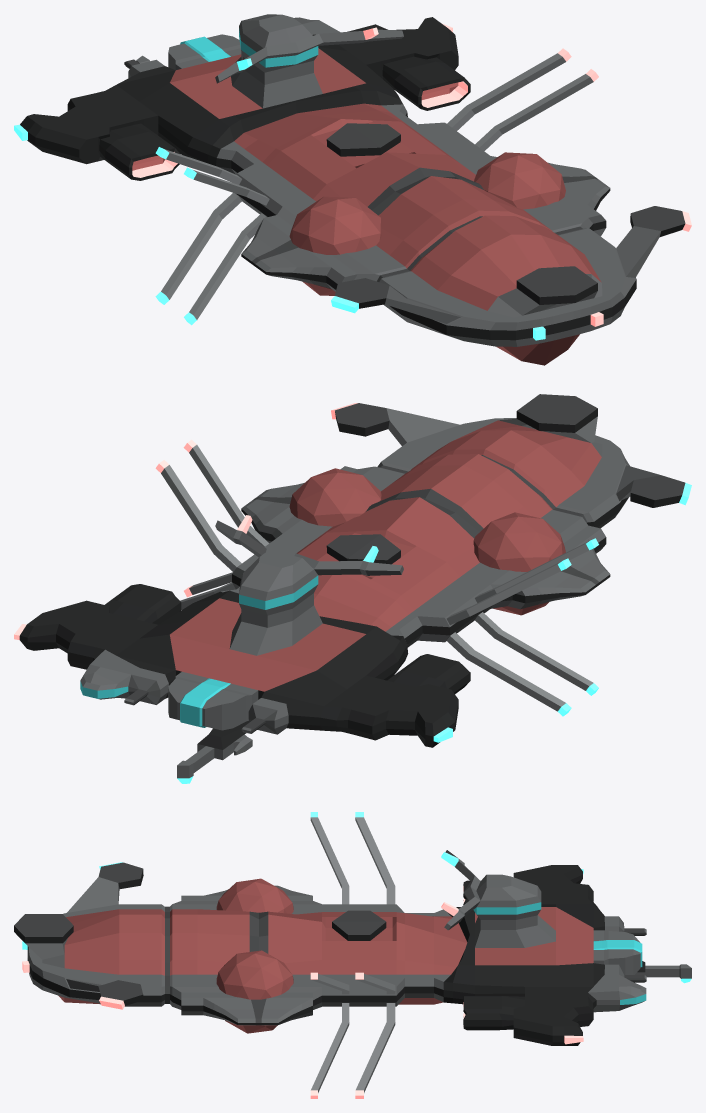
Rendered from Tanker_M_LODGroup.fbx.
The picture shows the model from 3 angles, top to bottom: view 1: azimuth 30°, elevation 25°; view 2: azimuth 150°, elevation 25°; view 3: azimuth 270°, elevation 25°; orthographic projection. The views are drawn at different scales.
Visible parts, largest first — view 1: Tanker M_LOD0; view 2: Tanker M_LOD0; view 3: Tanker M_LOD0.
Part boxes in pixels (x1,y1,x2,y2): Tanker M_LOD0: (14,14,691,365); Tanker M_LOD0: (14,394,691,783); Tanker M_LOD0: (14,812,691,1098).
Size of what is drawn, in the model's own units: 5.27 by 2.02 by 8.82.
